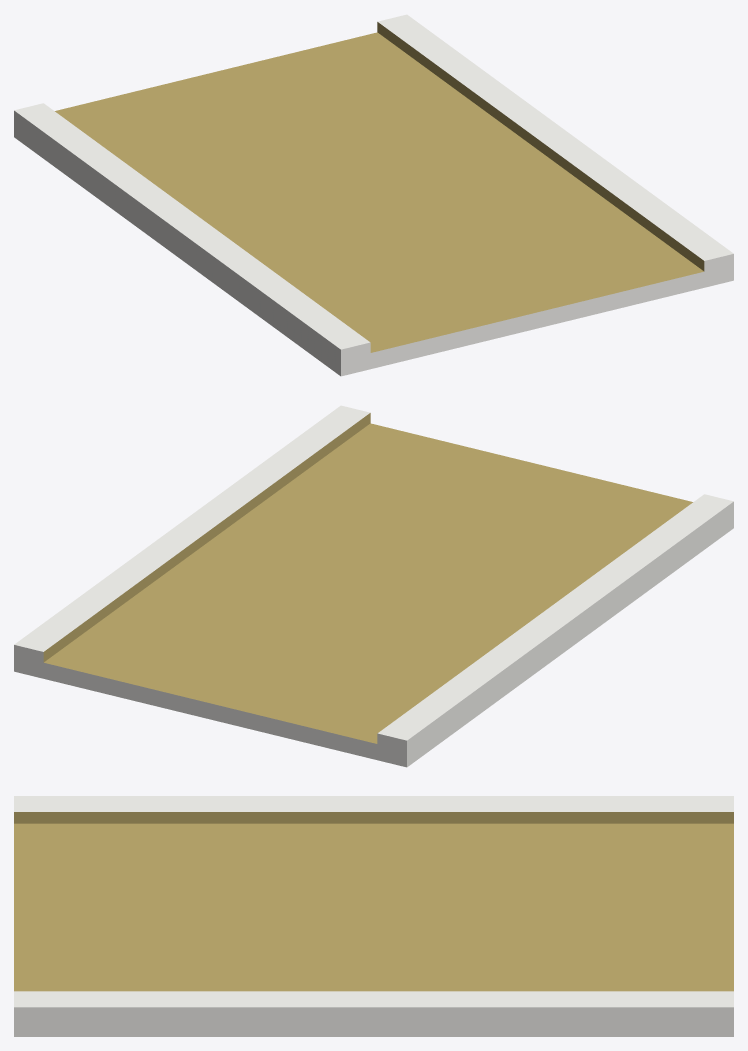
The model's file is road grass1.fbx.
3 views of the same model, one above another, from view 1: azimuth 30°, elevation 25°; view 2: azimuth 150°, elevation 25°; view 3: azimuth 270°, elevation 25° (orthographic). The views are drawn at different scales.
Parts seen in each view (by area): view 1: Boole_1; view 2: Boole_1; view 3: Boole_1.
Boxes of the visible parts, box(x1,y1,x2,y2) form: Boole_1: box(14, 14, 733, 376); Boole_1: box(14, 405, 733, 767); Boole_1: box(14, 796, 733, 1036).
Bounding box in the file's own units: 139 × 9.06 × 200.
